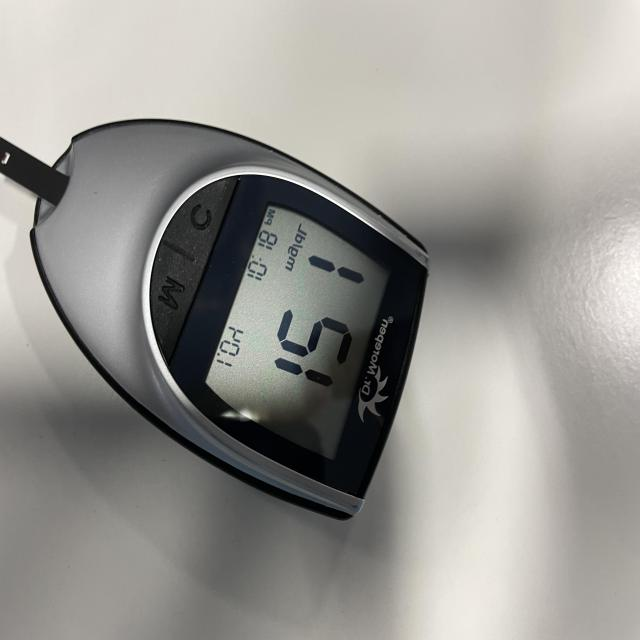gluco: (0, 119, 430, 523)
